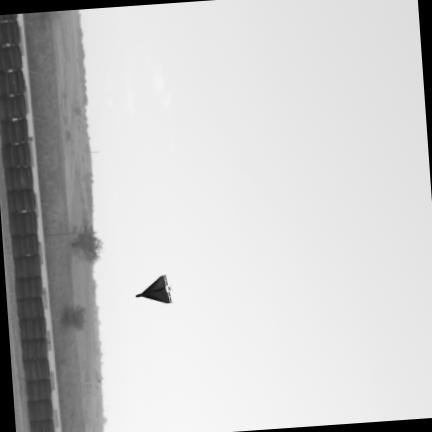Shahed: (134, 275, 174, 304)
